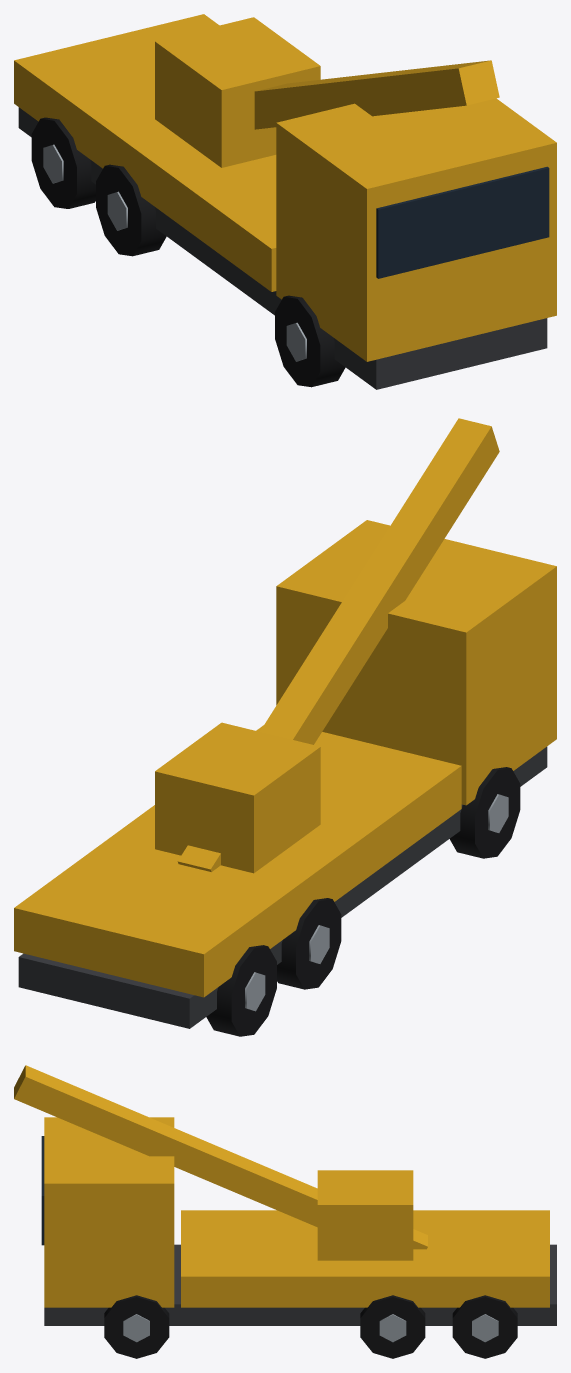
The model's file is veh_ground_crane_truck_a07.glb.
3 renders of one model, top to bottom at view 1: azimuth 30°, elevation 25°; view 2: azimuth 150°, elevation 25°; view 3: azimuth 270°, elevation 25°, orthographic. The views are drawn at different scales.
Parts seen in each view (by area): view 1: body, crane, wheel_2, wheel_4, wheel_0; view 2: body, crane, wheel_4, wheel_0, wheel_2; view 3: body, crane, wheel_5, wheel_1, wheel_3.
Part boxes in pixels (left/top/right/bottom): body: left=14, top=14, right=556, bottom=389; crane: left=155, top=17, right=499, bottom=167; wheel_2: left=96, top=164, right=166, bottom=256; wheel_4: left=275, top=295, right=345, bottom=387; wheel_0: left=31, top=117, right=95, bottom=208; body: left=14, top=520, right=556, bottom=1028; crane: left=155, top=418, right=499, bottom=873; wheel_4: left=450, top=767, right=520, bottom=858; wheel_0: left=206, top=945, right=276, bottom=1036; wheel_2: left=277, top=898, right=341, bottom=989; body: left=41, top=1117, right=556, bottom=1325; crane: left=14, top=1065, right=427, bottom=1260; wheel_5: left=104, top=1295, right=169, bottom=1358; wheel_1: left=452, top=1295, right=517, bottom=1358; wheel_3: left=360, top=1295, right=425, bottom=1358.
Size of what is drawn, in the model's own units: 2.46 by 4.09 by 7.95.
